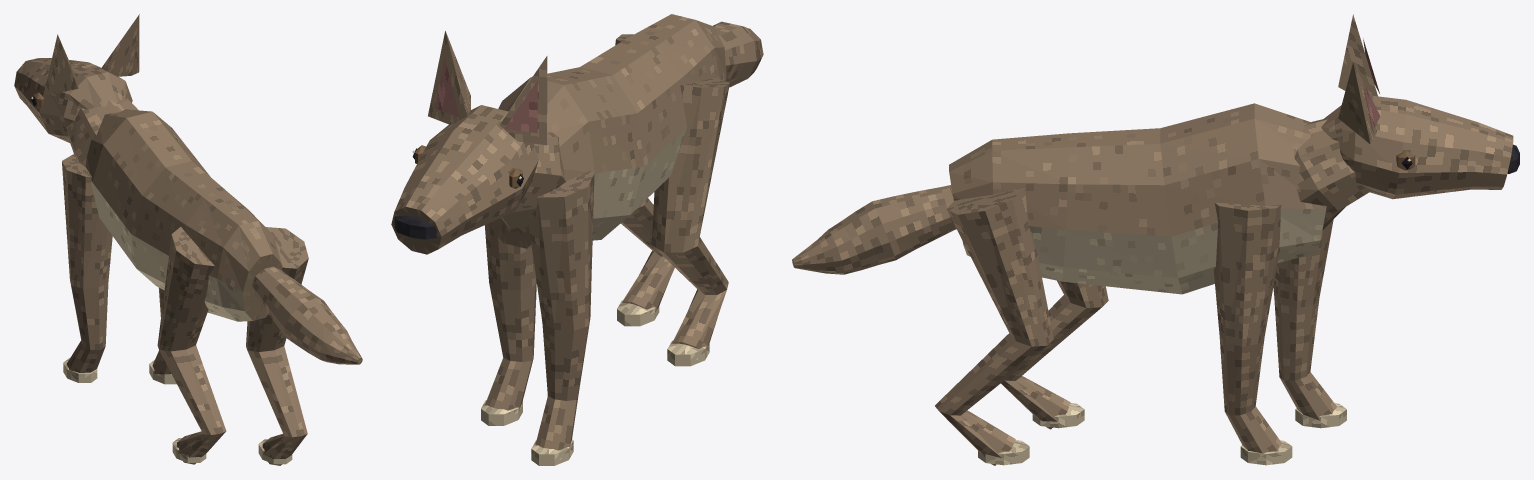
The model's file is mon_coyote.glb.
3 renders of one model, left to right at view 1: azimuth 30°, elevation 25°; view 2: azimuth 150°, elevation 25°; view 3: azimuth 270°, elevation 25°, orthographic. The views are drawn at different scales.
Visible parts, largest first — view 1: closed_body; view 2: closed_body; view 3: closed_body.
Boxes of the visible parts, left/top/right/bottom form: closed_body: left=14, top=14, right=362, bottom=465; closed_body: left=391, top=14, right=763, bottom=465; closed_body: left=792, top=14, right=1519, bottom=465.
Size of the model in its own units: 0.2745 by 0.8478 by 1.37.
Materials: 1 (1 with a texture image).
